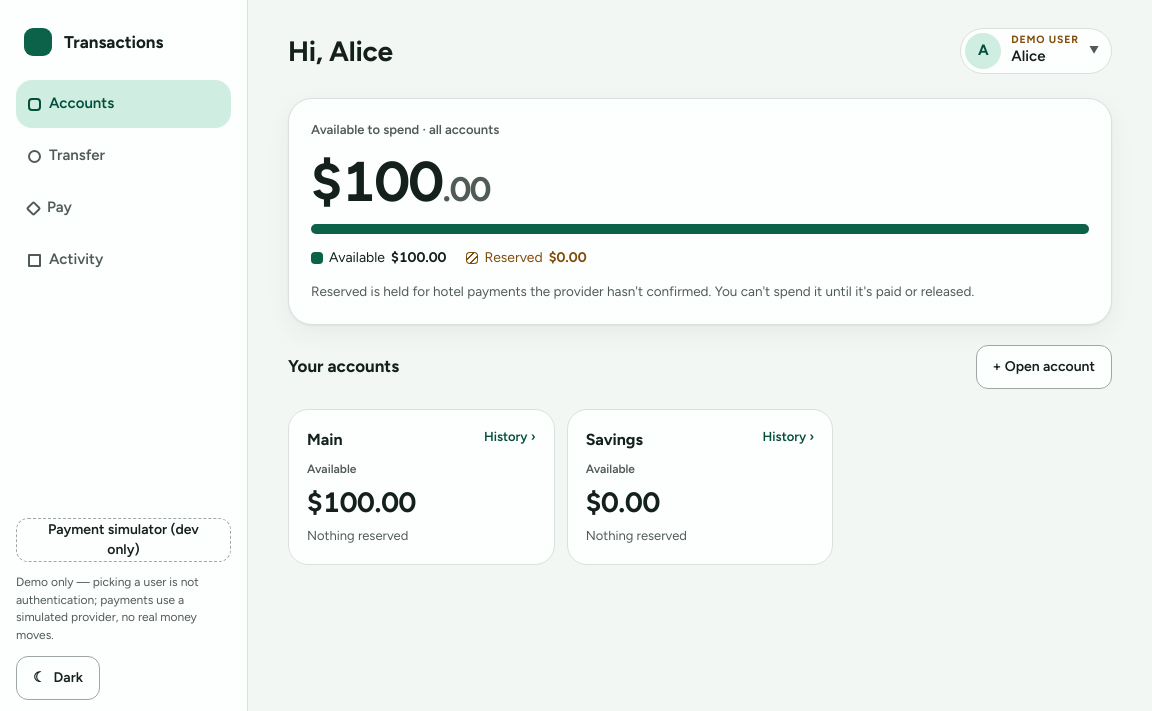
Scenario: Calm wallet UI › 6: an Unconfirmed payment says funds are reserved; paying again with the same details reuses the key and does not charge twice
Expected: the heading "Hi, Alice" is shown, [288, 31, 393, 71]
Expected: the element named "Balance summary" is shown, [288, 98, 1112, 325]
Click the button "Pay": (124, 208) [16, 184, 231, 232]
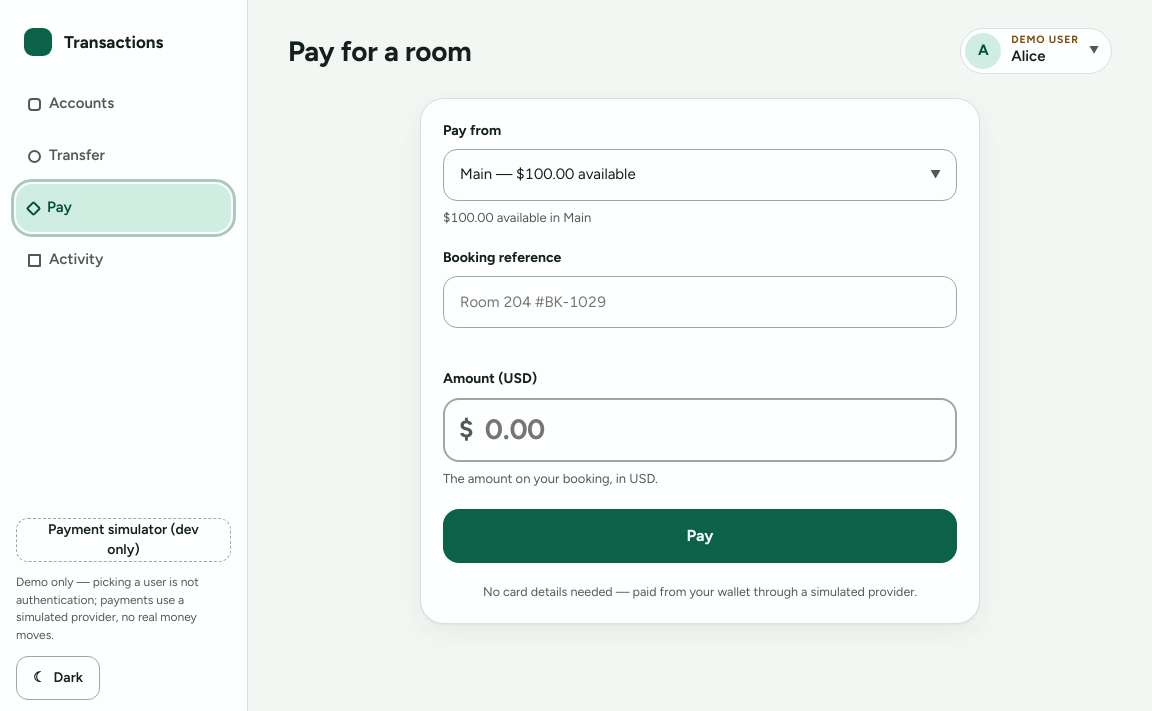
In the field labelled "Booking reference": (700, 302) [443, 276, 957, 328], type "Room 204"
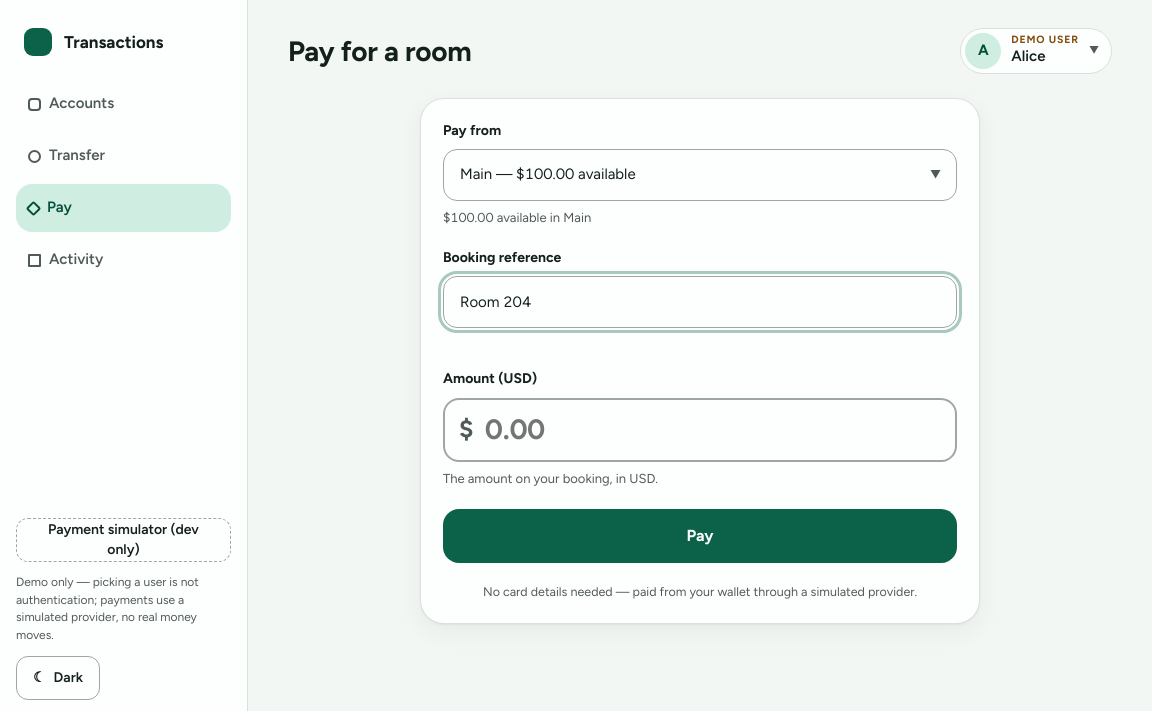
In the field labelled "Amount (USD)": (700, 430) [443, 398, 957, 462], type "20"
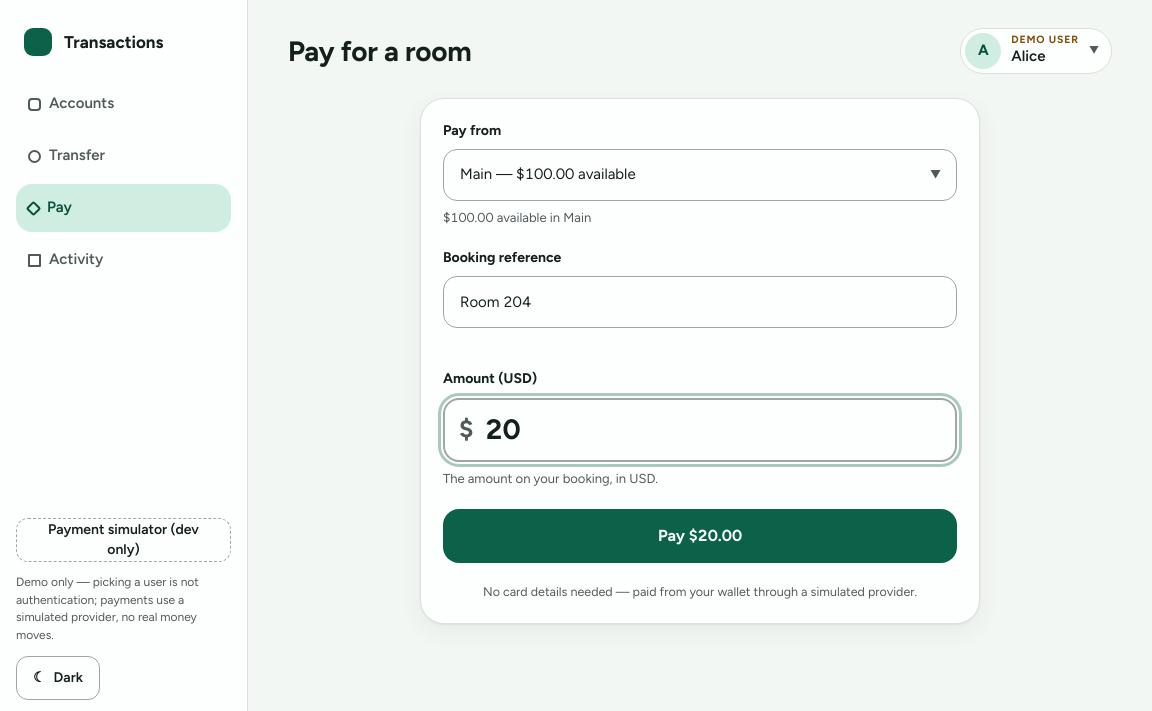
Click the button "Pay $20.00": (700, 536) [443, 509, 957, 563]
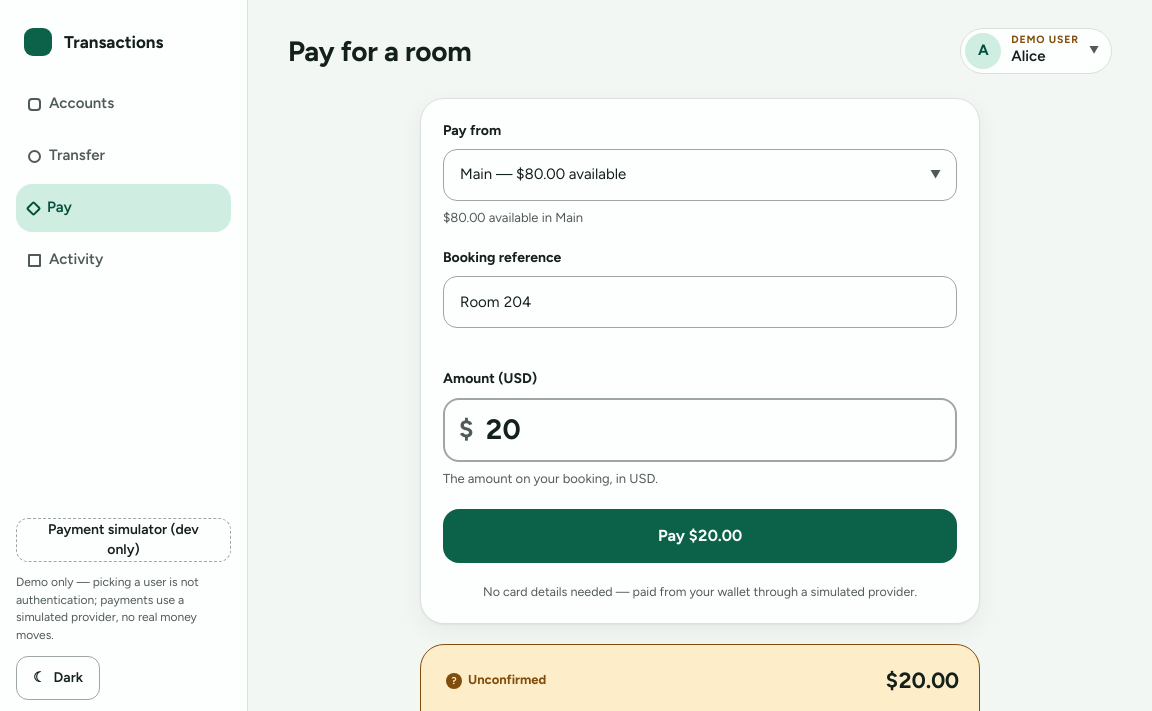
Expected: the text "Unconfirmed" is shown, [468, 672, 546, 687]
Click the button "Pay $20.00": (700, 536) [443, 509, 957, 563]
(page scrolled)
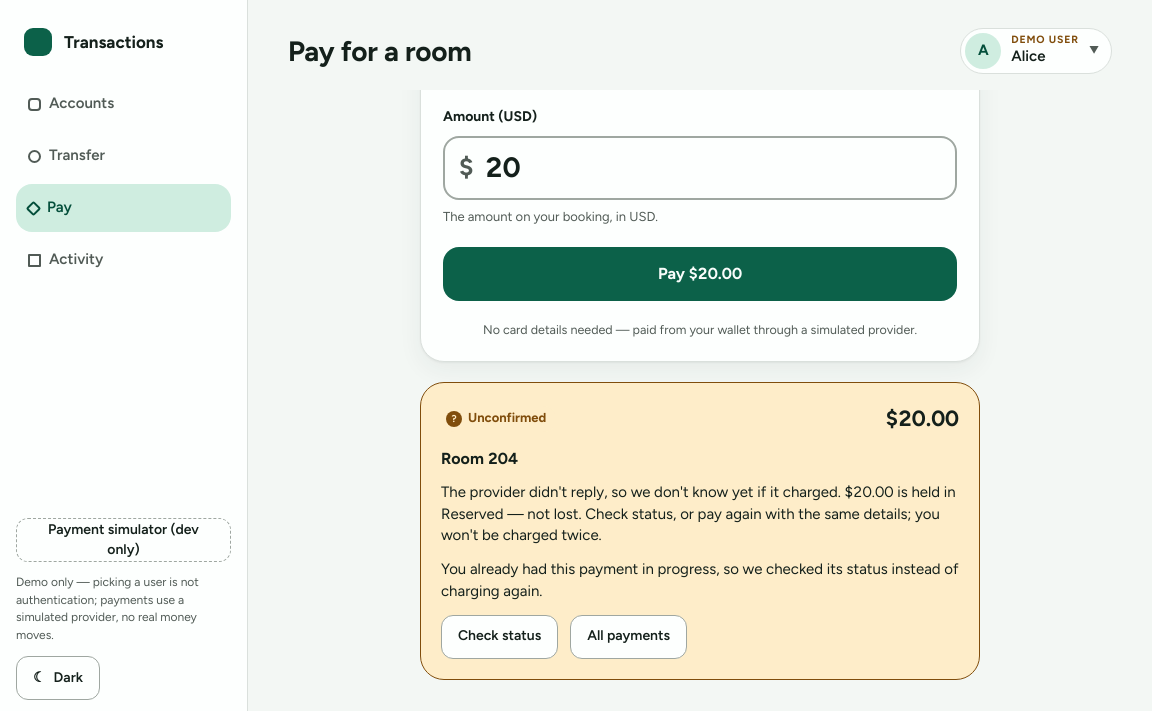
Expected: the text "You already had this payment in progress, so we checked its status instead of charging again." is shown, [441, 560, 959, 600]
